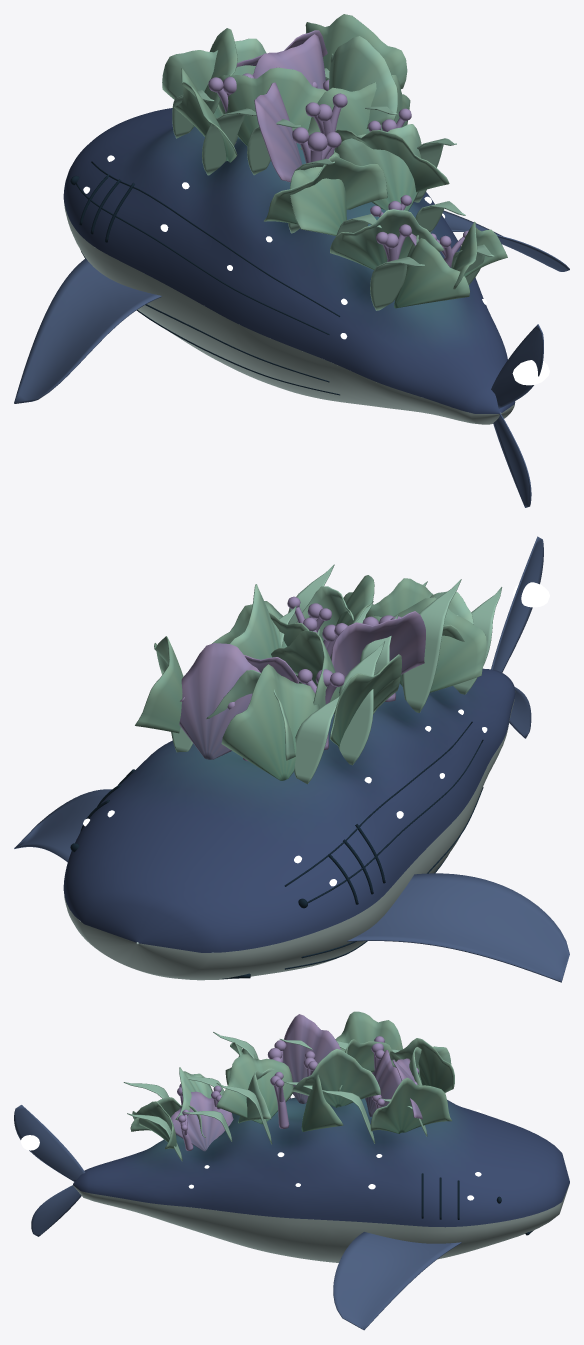
The picture shows the model from 3 angles, top to bottom: view 1: azimuth 30°, elevation 25°; view 2: azimuth 150°, elevation 25°; view 3: azimuth 270°, elevation 25°; orthographic projection. The views are drawn at different scales.
Parts seen in each view (by area): view 1: RIMWARD_HULL, RIMWARD_ENGINE_GLOW; view 2: RIMWARD_HULL, RIMWARD_ENGINE_GLOW; view 3: RIMWARD_HULL.
Boxes of the visible parts, x1,y1,x2,y2 form: RIMWARD_HULL: (14, 14, 569, 507); RIMWARD_ENGINE_GLOW: (512, 360, 549, 385); RIMWARD_HULL: (14, 536, 569, 982); RIMWARD_ENGINE_GLOW: (512, 582, 549, 607); RIMWARD_HULL: (14, 1011, 569, 1330).
Size of the model in its own units: 66.22 by 37.06 by 85.
